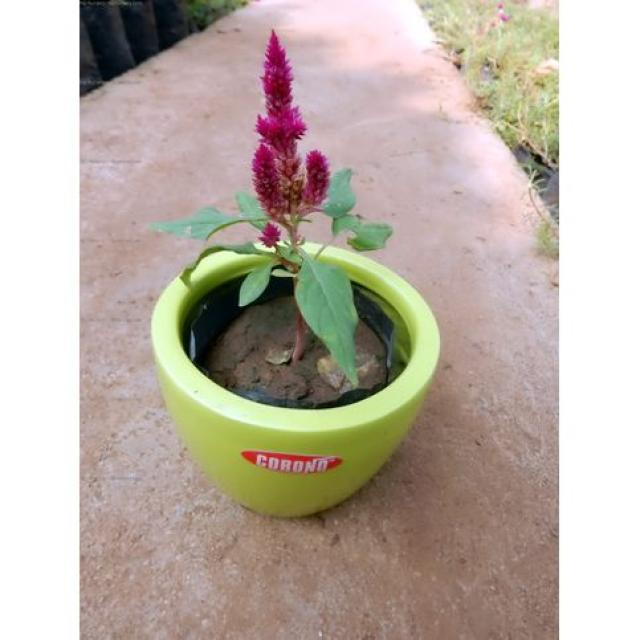Celosia-Argentea: (249, 27, 331, 258)
